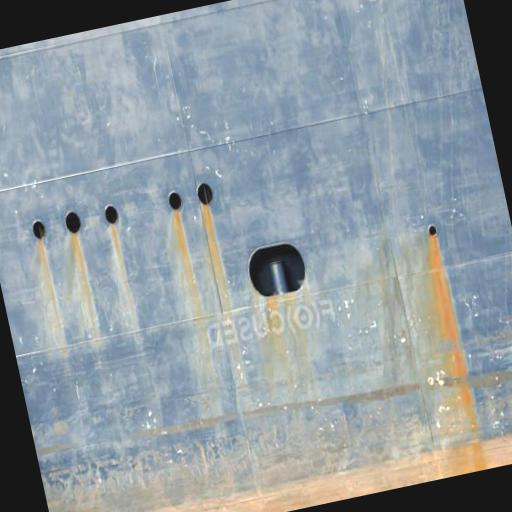segmentation: (428, 224, 485, 469), (196, 182, 232, 311), (174, 211, 193, 278)
